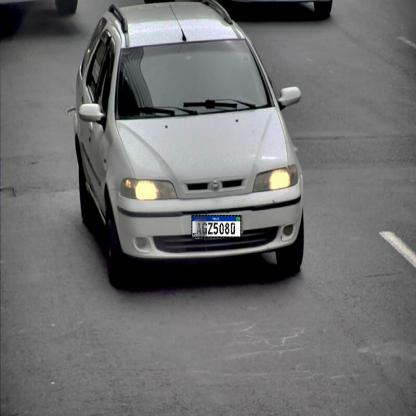PlacaM: (192, 215, 242, 238)
